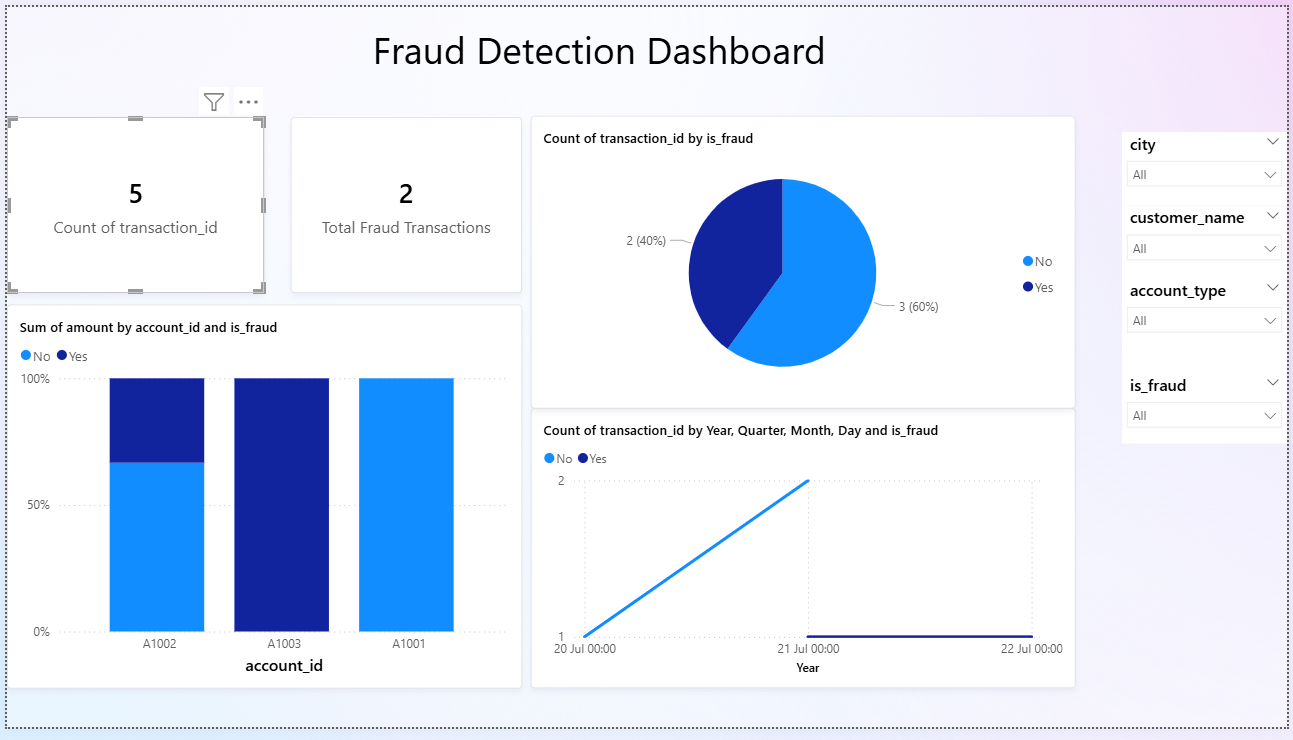

What the dashboard file says about the page in this screenshot:
{"tool":"powerbi","page":{"name":"Main","canvas":[1280,720],"ordinal":0},"visuals":[{"type":"card","fields":{"Values":["bankdb fraud_view.transaction_id"]},"box":[0,110,257.5,176.2],"z":0},{"type":"card","fields":{"Values":["bankdb fraud_view.Total Fraud Transactions"]},"box":[283.8,110,231.2,176.2],"z":1},{"type":"hundredPercentStackedColumnChart","fields":{"Category":["bankdb fraud_view.account_id"],"Y":["bankdb fraud_view.amount"],"Series":["bankdb fraud_view.is_fraud"]},"box":[0,297.5,515,383.8],"z":2},{"type":"lineChart","fields":{"Y":["bankdb fraud_view.transaction_id"],"Category":["bankdb fraud_view.transaction_date.Variation.Date Hierarchy.Year","bankdb fraud_view.transaction_date.Variation.Date Hierarchy.Quarter","bankdb fraud_view.transaction_date.Variation.Date Hierarchy.Month","bankdb fraud_view.transaction_date.Variation.Date Hierarchy.Day"],"Series":["bankdb fraud_view.is_fraud"]},"box":[523.8,401.2,545,280],"z":3},{"type":"pieChart","fields":{"Category":["bankdb fraud_view.is_fraud"],"Y":["bankdb fraud_view.transaction_id"]},"box":[523.8,108.8,545,292.5],"z":4},{"type":"slicer","fields":{"Values":["bankdb fraud_view.customer_name"]},"box":[1115,198.8,165,72.5],"z":5},{"type":"slicer","fields":{"Values":["bankdb fraud_view.city"]},"box":[1115,125,165,73.8],"z":6},{"type":"slicer","fields":{"Values":["bankdb fraud_view.account_type"]},"box":[1115,271.2,165,95],"z":7},{"type":"slicer","fields":{"Values":["bankdb fraud_view.is_fraud"]},"box":[1115,366.2,165,70],"z":8},{"type":"textbox","box":[185,12.5,825,81.2],"z":9}]}

Visuals, with their boxes in screenshot pixels (x1, y1, x2, y2), scaled from the page's 1280x720 canvas onto the 1293x740 screenshot:
card - bankdb fraud_view.transaction_id: 0,113,260,294
card - bankdb fraud_view.Total Fraud Transactions: 287,113,520,294
hundredPercentStackedColumnChart - bankdb fraud_view.account_id x bankdb fraud_view.amount: 0,306,520,700
lineChart - bankdb fraud_view.transaction_id x bankdb fraud_view.transaction_date.Variation.Date Hierarchy.Year: 529,412,1080,700
pieChart - bankdb fraud_view.is_fraud x bankdb fraud_view.transaction_id: 529,112,1080,412
slicer - bankdb fraud_view.customer_name: 1126,204,1292,279
slicer - bankdb fraud_view.city: 1126,128,1292,204
slicer - bankdb fraud_view.account_type: 1126,279,1292,376
slicer - bankdb fraud_view.is_fraud: 1126,376,1292,448
textbox: 187,13,1020,96
